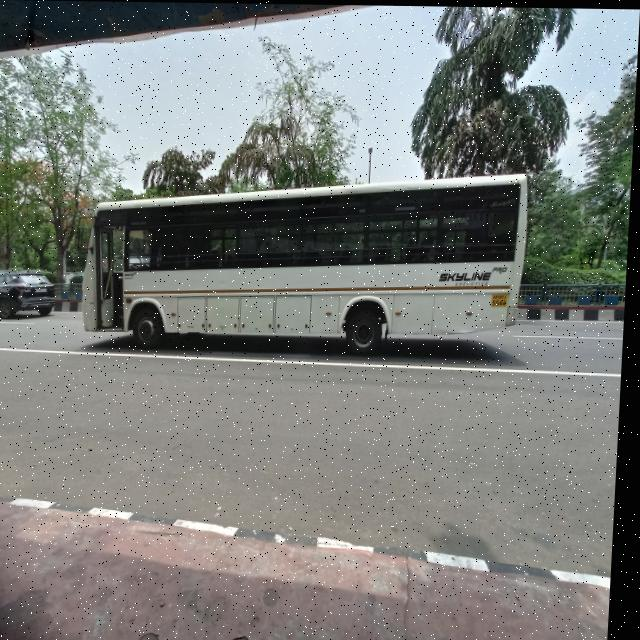bus: (68, 156, 546, 381)
car: (0, 261, 62, 331)
